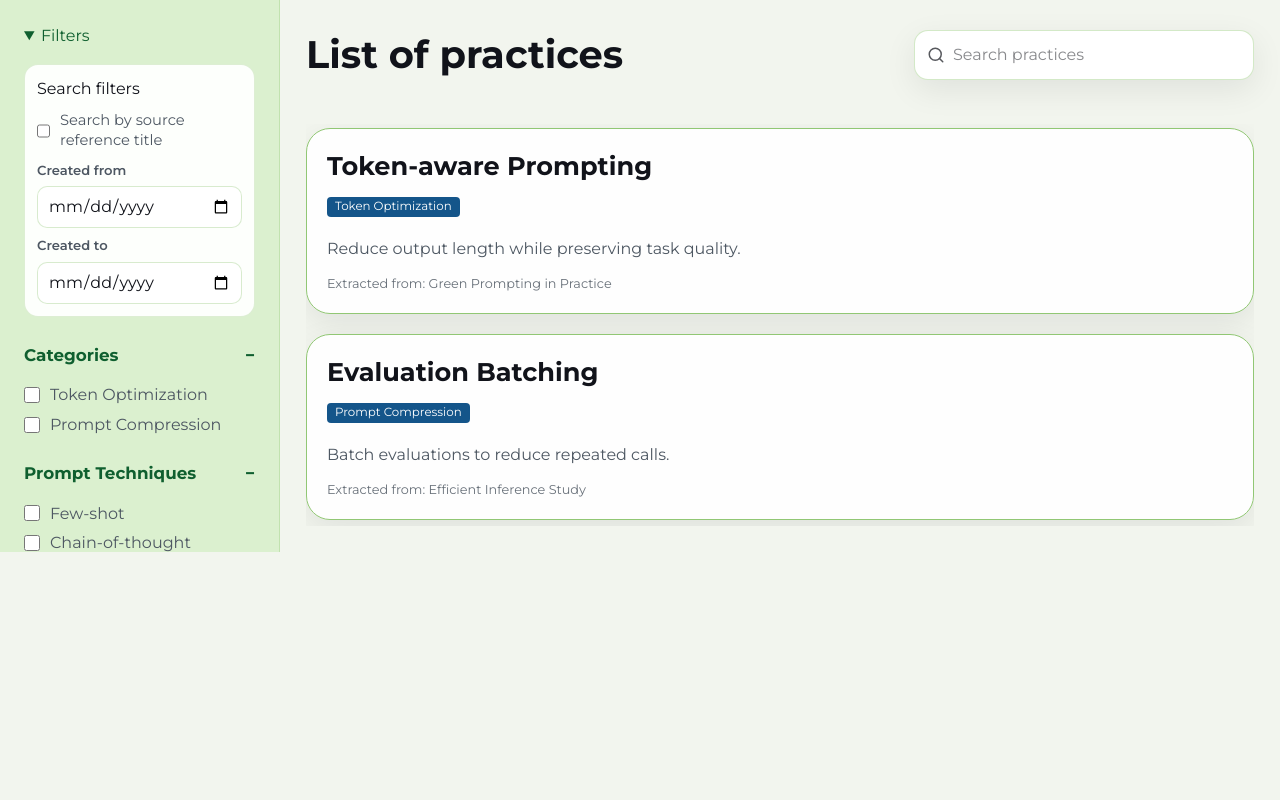
Test: Catalog page requirements › FR1/US9: filters by source year when the source toggle is enabled
Check: the dropdown labelled "source year" is not shown
Click the checkbox labelled "Search by source reference title".
click(44, 131)  # box [37, 123, 50, 139]
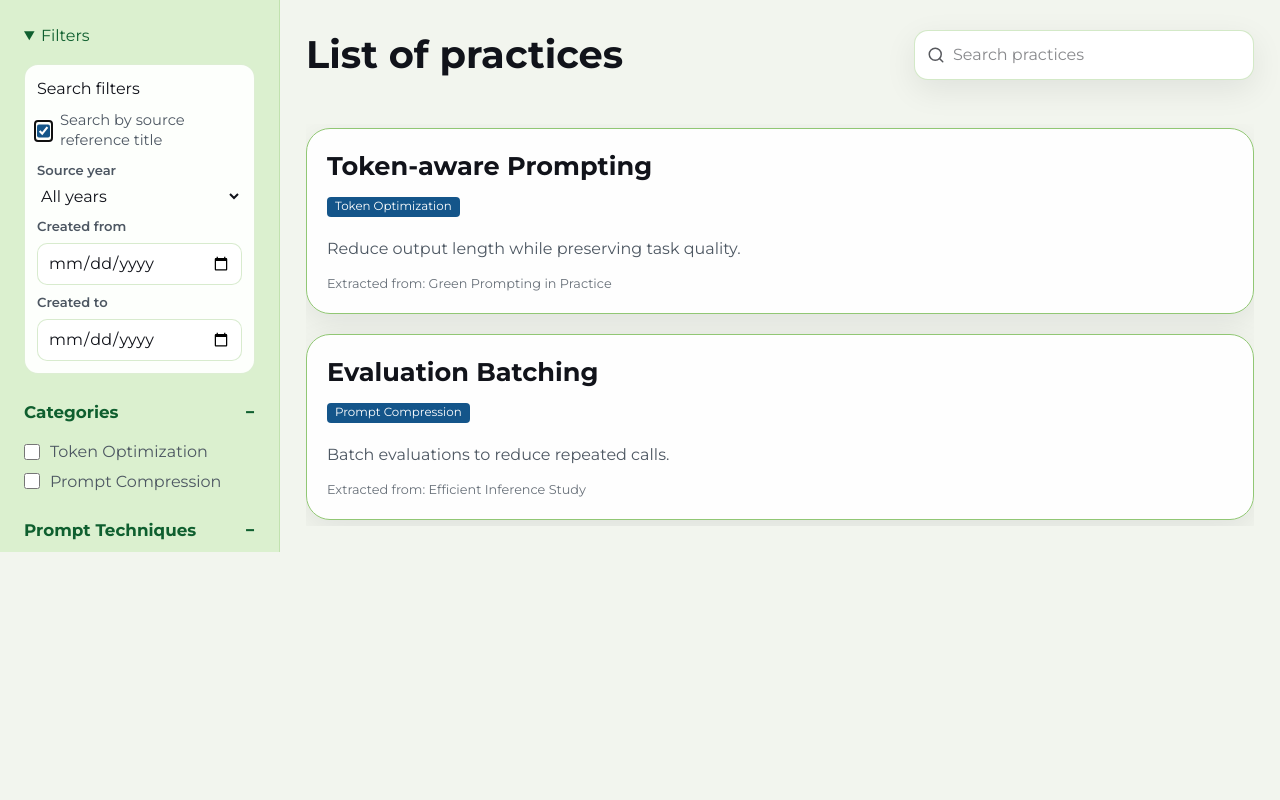
Select "2024" in the dropdown labelled "Source year" at {"x": 140, "y": 197}, box [37, 186, 242, 207]
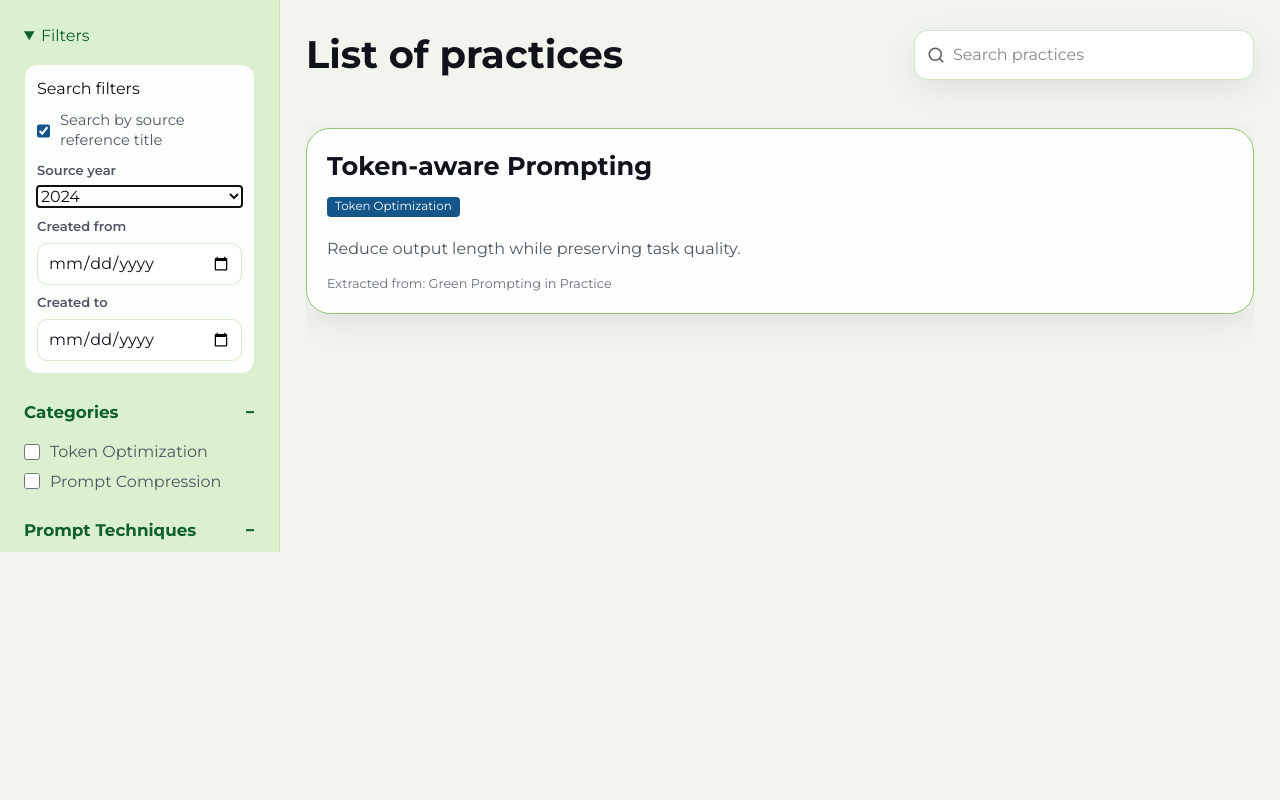
Check: the link "Token-aware Prompting" is shown, box [306, 128, 1254, 314]
Check: the link "Evaluation Batching" is gone
